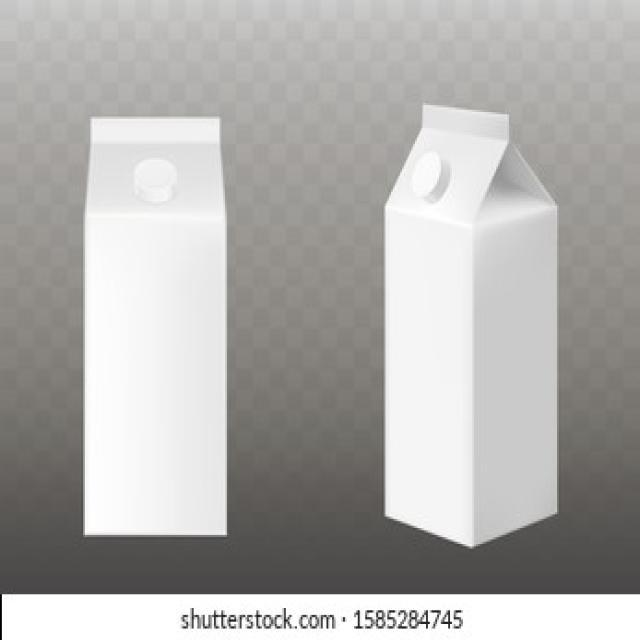Carton: (378, 96, 566, 554), (81, 100, 239, 541)
